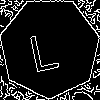L: (25, 22, 61, 73)
